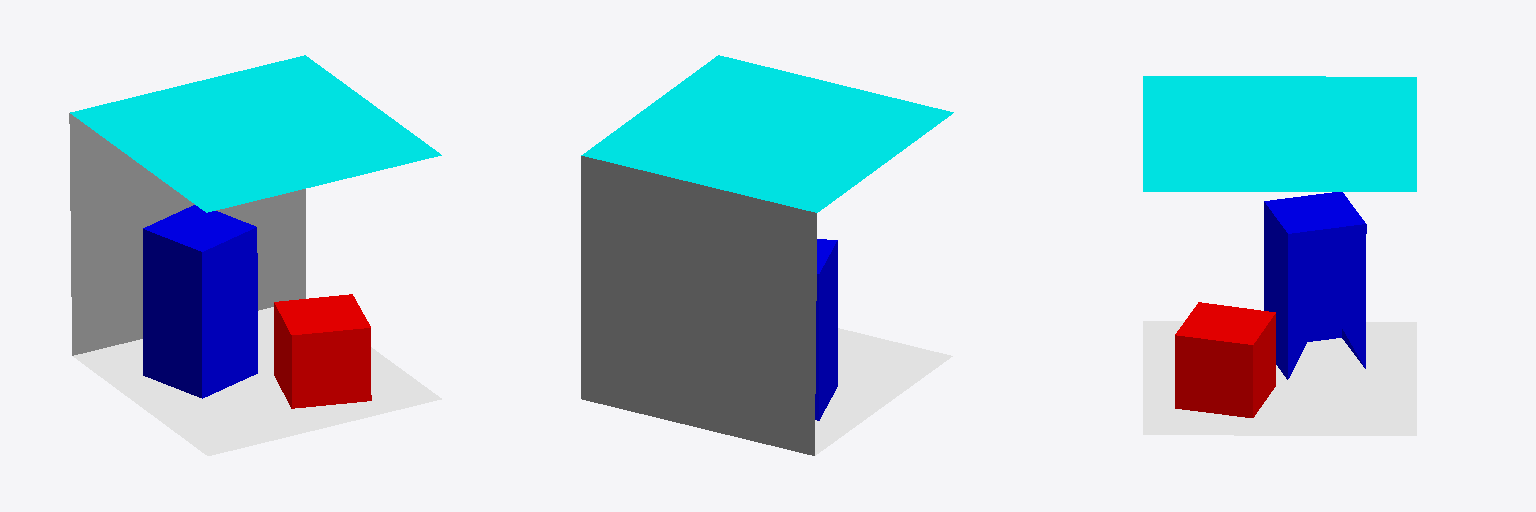
3 renders of one model, left to right at view 1: azimuth 30°, elevation 25°; view 2: azimuth 150°, elevation 25°; view 3: azimuth 270°, elevation 25°, orthographic.
Visible parts, largest first — view 1: ceiling, back_wall, tall_box, floor, short_box; view 2: back_wall, ceiling, floor, tall_box; view 3: ceiling, floor, tall_box, short_box.
Boxes of the visible parts, box(x1,y1,x2,y2) form: ceiling: box(70, 55, 441, 212); back_wall: box(69, 113, 305, 355); tall_box: box(143, 205, 257, 398); floor: box(73, 307, 441, 455); short_box: box(274, 294, 371, 408); back_wall: box(581, 156, 816, 455); ceiling: box(581, 55, 953, 212); floor: box(815, 328, 952, 455); tall_box: box(815, 239, 837, 420); ceiling: box(1143, 76, 1416, 191); floor: box(1143, 321, 1416, 435); tall_box: box(1264, 192, 1366, 379); short_box: box(1175, 302, 1275, 417).
Size of the model in its own units: 5.56 by 5.49 by 5.6.